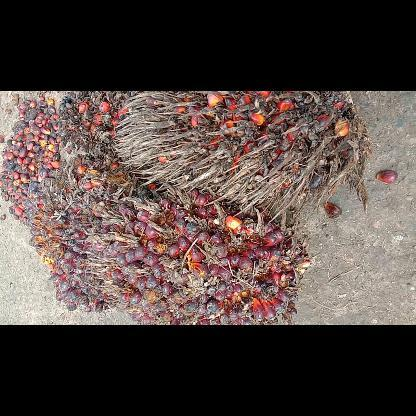TBS masak: (87, 188, 309, 324), (30, 162, 168, 310)
Terlalu masak: (112, 91, 370, 221), (55, 90, 135, 162)
